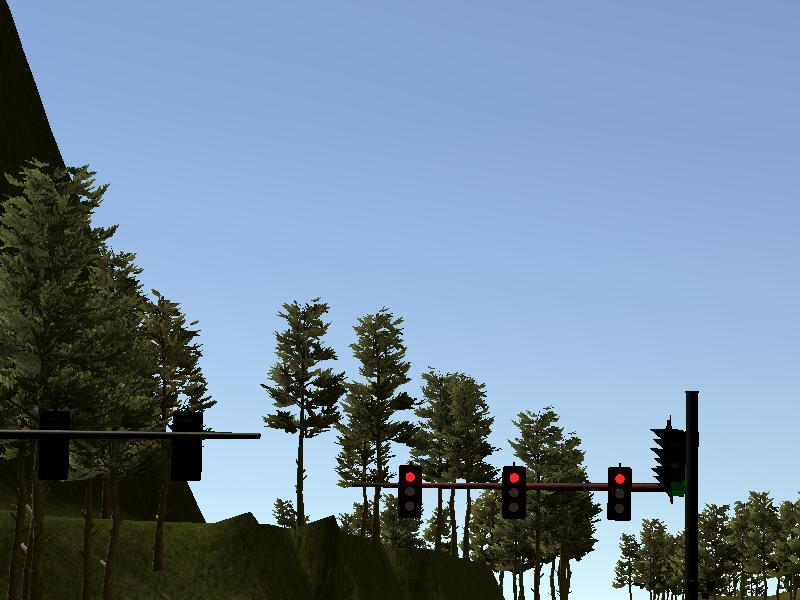Red: (606, 467, 632, 520), (503, 466, 527, 517), (399, 464, 421, 518)
